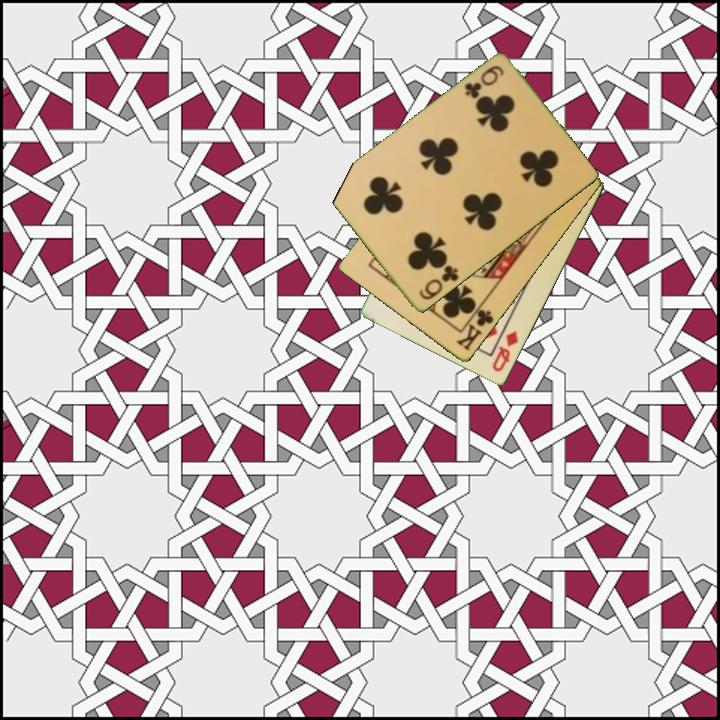6c: (415, 262, 462, 303), (461, 62, 507, 102)
Kc: (453, 300, 497, 354)
Qd: (489, 327, 521, 375)
